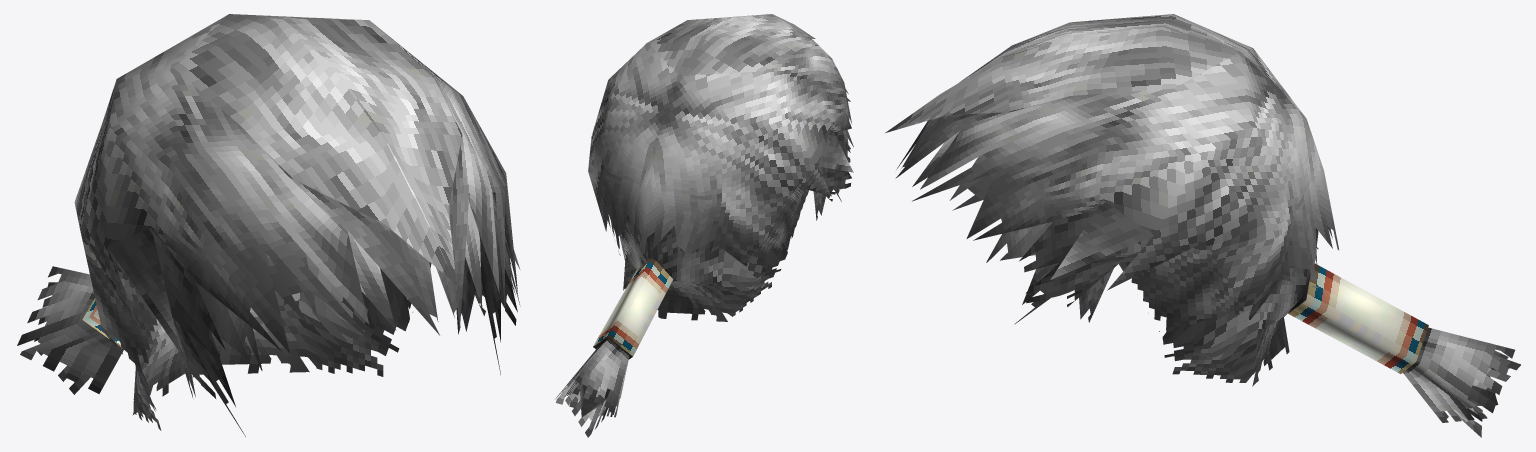
Rendered from m_hair000.obj.
3 views of the same model, side by side, from view 1: azimuth 30°, elevation 25°; view 2: azimuth 150°, elevation 25°; view 3: azimuth 270°, elevation 25° (orthographic). The views are drawn at different scales.
Parts seen in each view (by area): view 1: editpl_m-0000-1806; view 2: editpl_m-0000-1806, editpl_m-0000-1807; view 3: editpl_m-0000-1806, editpl_m-0000-1807.
Part boxes in pixels (x1,y1,x2,y2): editpl_m-0000-1806: [17, 14, 520, 436]; editpl_m-0000-1806: [555, 14, 853, 437]; editpl_m-0000-1807: [593, 258, 672, 359]; editpl_m-0000-1806: [885, 14, 1520, 437]; editpl_m-0000-1807: [1288, 263, 1428, 373].
Bounding box in the file's own units: 17.7 × 25.13 × 35.35.
1 material, 1 textured.
